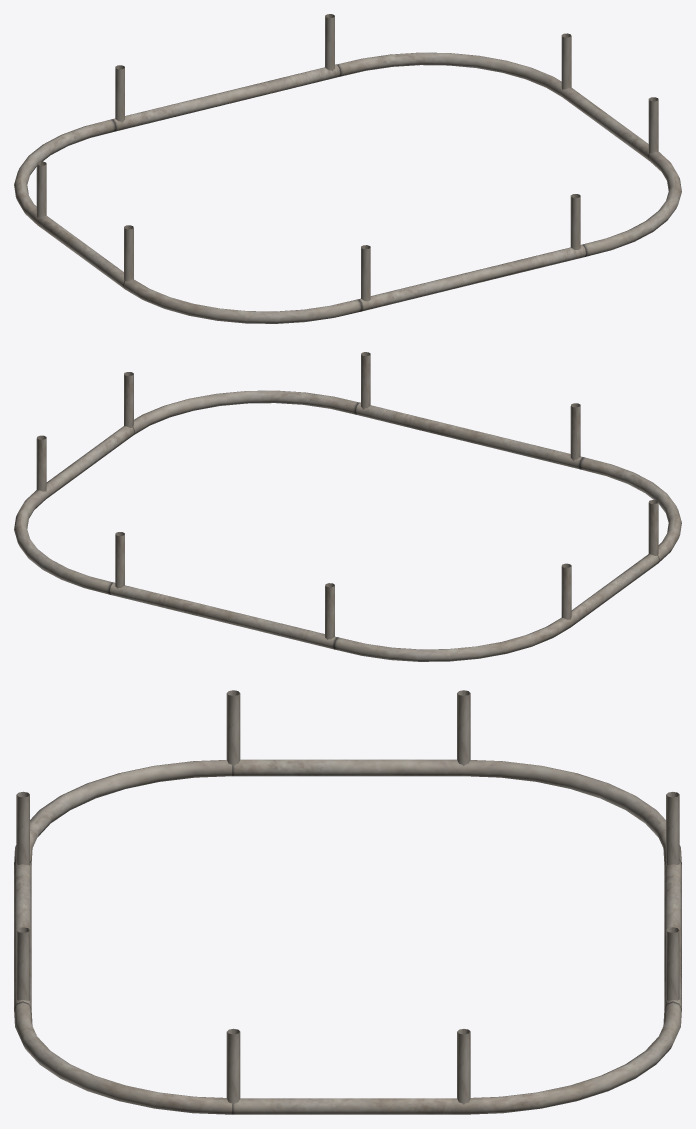
File: lighting_rig_infirmary_special_01.dae
3 renders of one model, top to bottom at view 1: azimuth 30°, elevation 25°; view 2: azimuth 150°, elevation 25°; view 3: azimuth 270°, elevation 25°, orthographic. The views are drawn at different scales.
Parts seen in each view (by area): view 1: 1; view 2: 1; view 3: 1.
Boxes of the visible parts, bbox=[...] form: 1: bbox=[14, 14, 681, 323]; 1: bbox=[14, 352, 681, 661]; 1: bbox=[14, 690, 681, 1114].
Size of the model in its own units: 5.11 by 0.5705 by 4.17.
